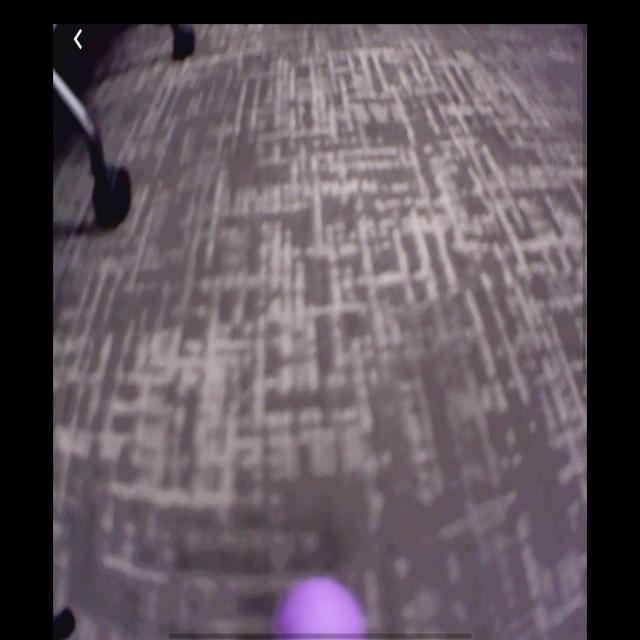ball: (277, 572, 367, 640)
